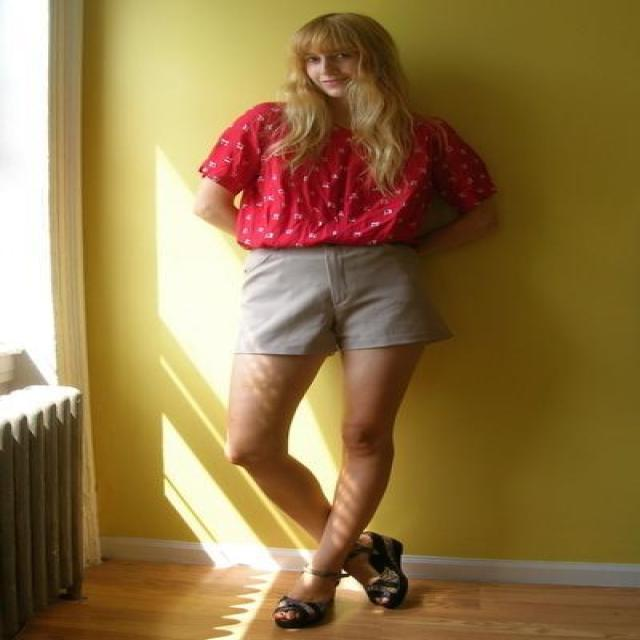shirt: (198, 100, 496, 262)
shoe: (275, 534, 421, 628)
shorts: (229, 244, 453, 370)
